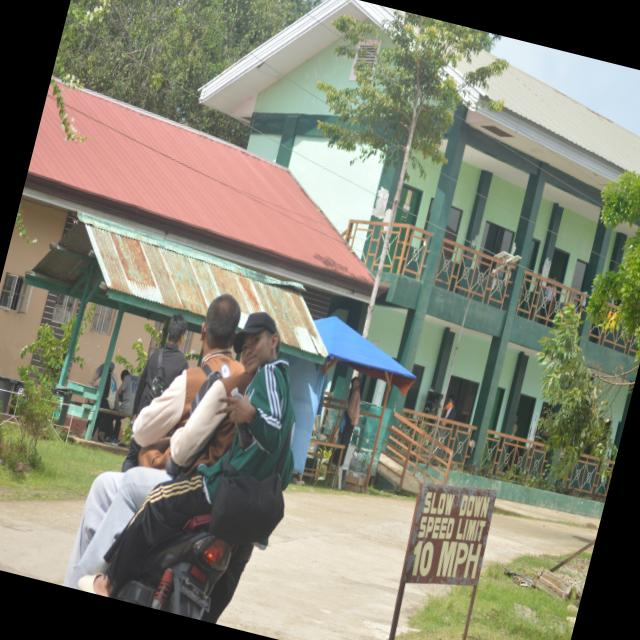person: (64, 295, 250, 587), (78, 456, 227, 597), (134, 315, 188, 417), (333, 378, 360, 465)
